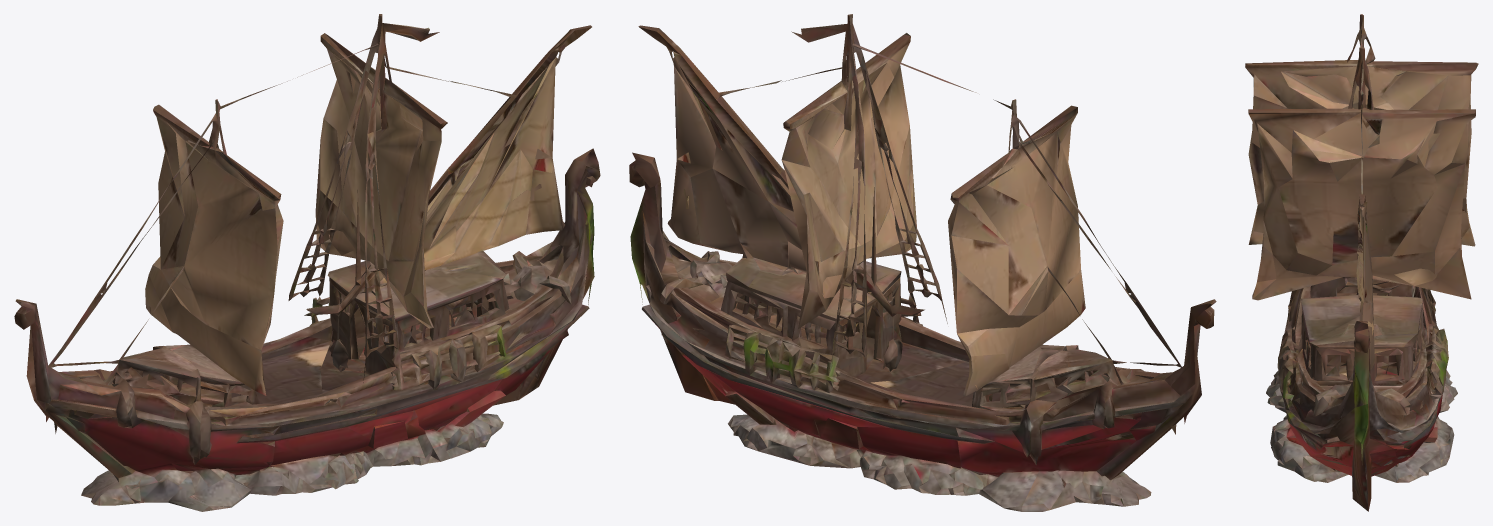
The model's file is junk-ship.glb.
The picture shows the model from 3 angles, left to right: view 1: azimuth 30°, elevation 25°; view 2: azimuth 150°, elevation 25°; view 3: azimuth 270°, elevation 25°; orthographic projection. The views are drawn at different scales.
Bounding box in the file's own units: 1.89 × 1.29 × 0.6984.
1 material, 1 textured.
